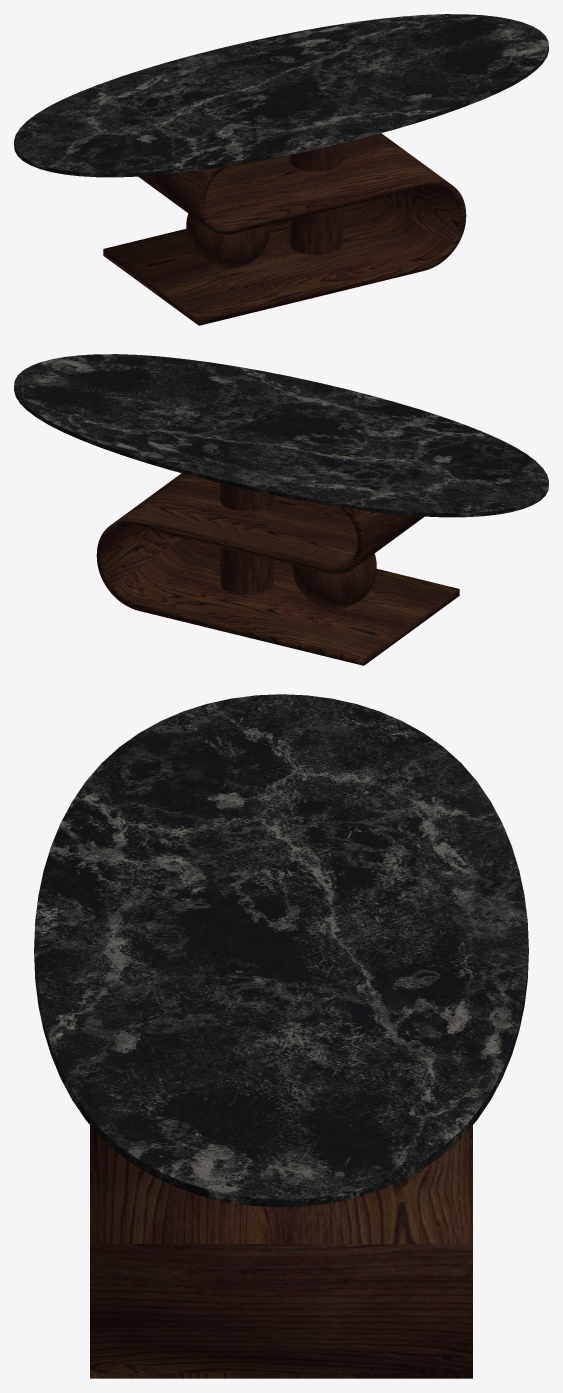
Rendered from Coffee_Table_Oval_2.glb.
3 renders of one model, top to bottom at view 1: azimuth 30°, elevation 25°; view 2: azimuth 150°, elevation 25°; view 3: azimuth 270°, elevation 25°, orthographic. The views are drawn at different scales.
Parts seen in each view (by area): view 1: Plane; view 2: Plane; view 3: Plane.
Part boxes in pixels (x1=…): Plane: x1=14, y1=14, x2=548, y2=325; Plane: x1=14, y1=354, x2=548, y2=665; Plane: x1=34, y1=694, x2=528, y2=1378.
Bounding box in the file's own units: 1.6 × 0.49 × 0.661.
2 materials, 2 textured.
